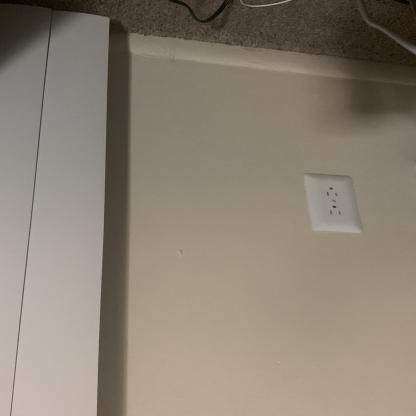OUTLET: (306, 174, 357, 232)
